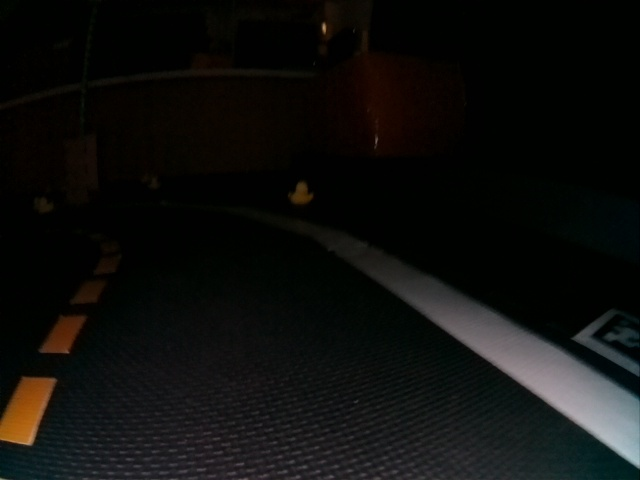Duckie: (290, 183, 313, 205), (39, 197, 53, 212)
QR code: (573, 307, 639, 377)
